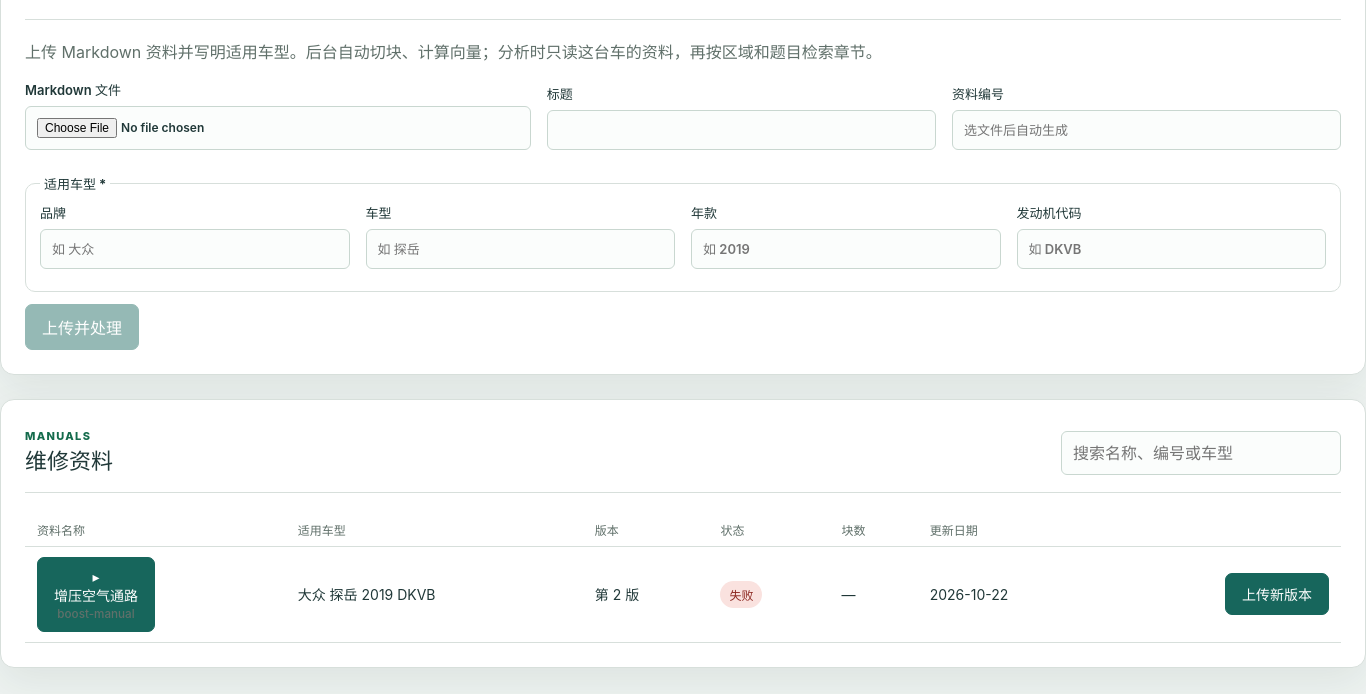
Test: ReferencesPage › lists one row per manual and opens its latest version, history and chunks in place
The width and height of the screenshot is (1366, 694).
Expected: the text "第 2 版" is shown, [583,546,708,642]
Expected: the text "大众 探岳 2019 DKVB" is shown, [286,546,583,642]
Click the button "▸ 增压空气通路 boost-manual" at (96, 594), box [37,557,155,632]
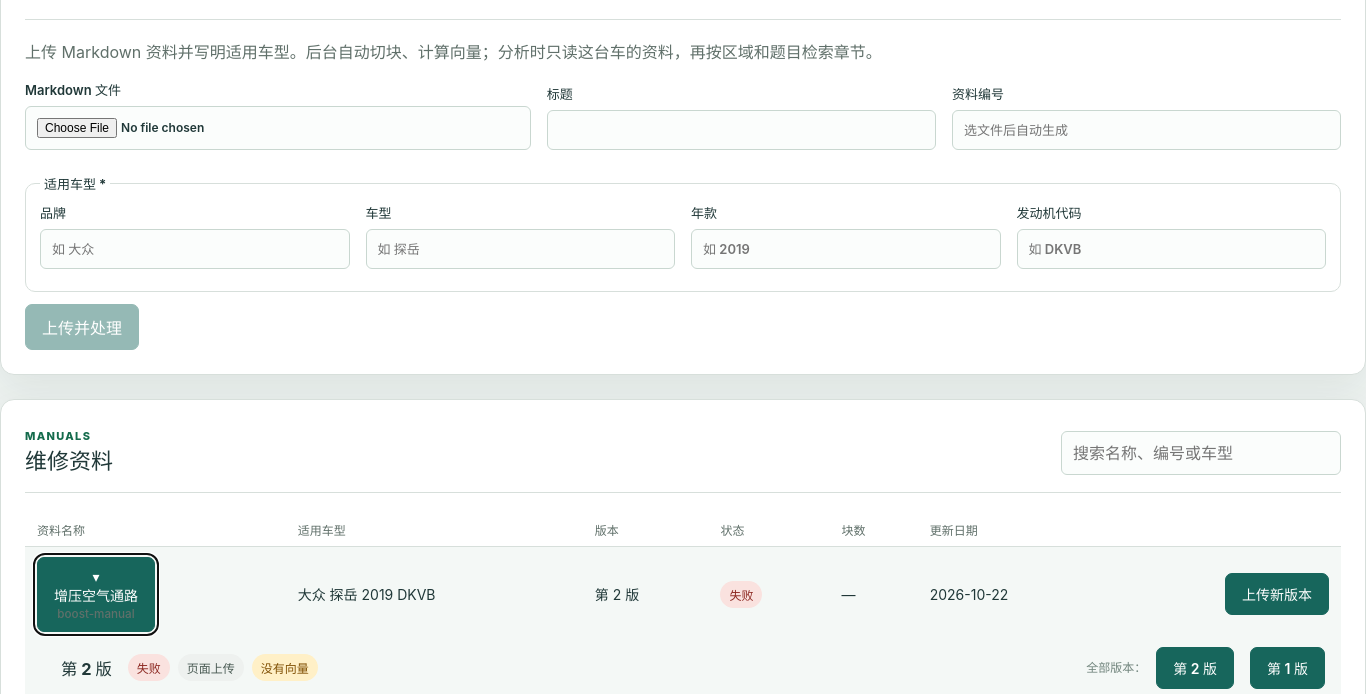
Click the button "第 1 版" at (1288, 668), box [1250,647,1325,689]
(page scrolled)
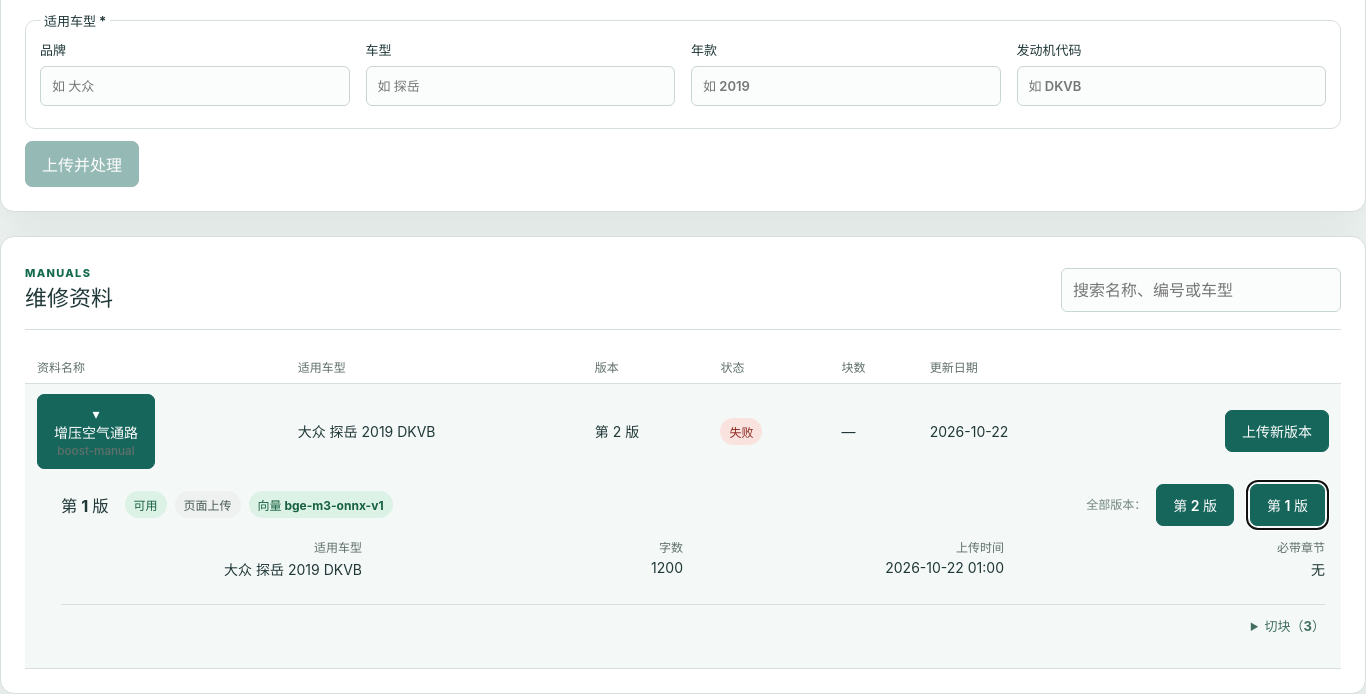
Click the heading "切块（3）" at (1295, 626), box [1265,618,1325,634]
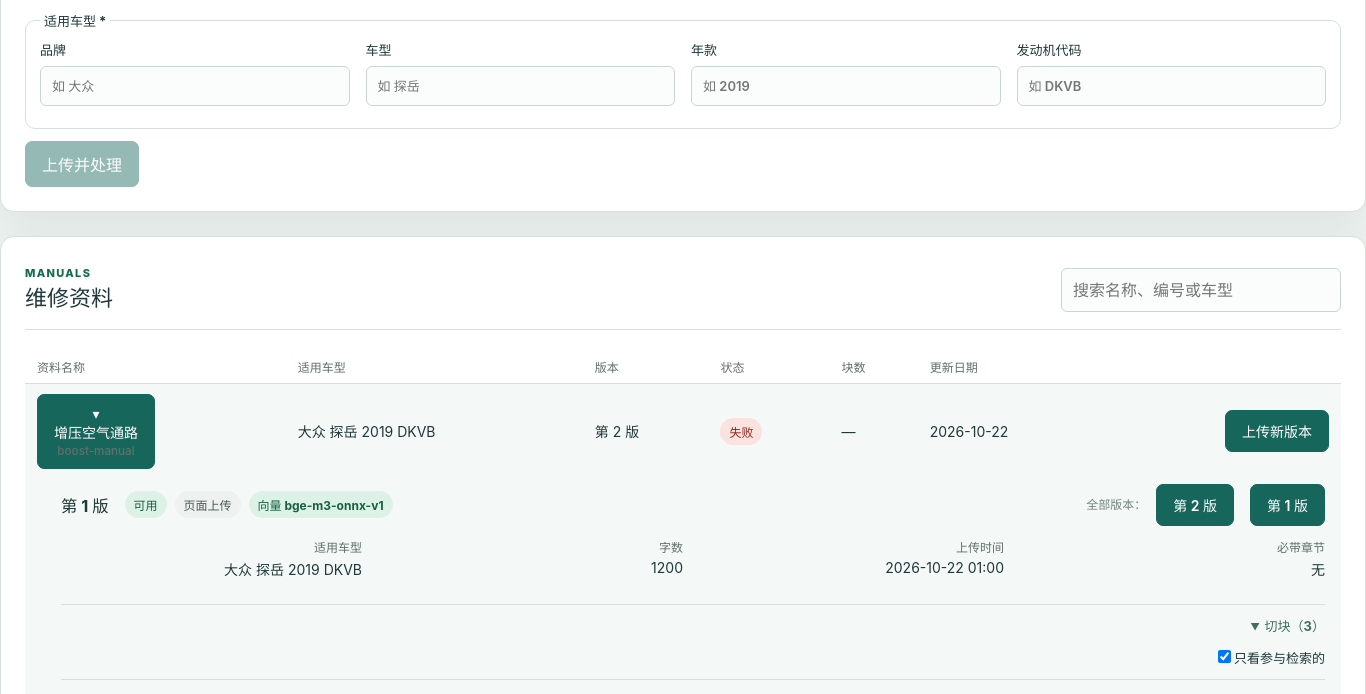
Expected: the text "导航章节，不参与检索" is not shown
Click the checkbox labelled "只看参与检索的" at (1224, 656), box [1218,650,1231,663]
(page scrolled)
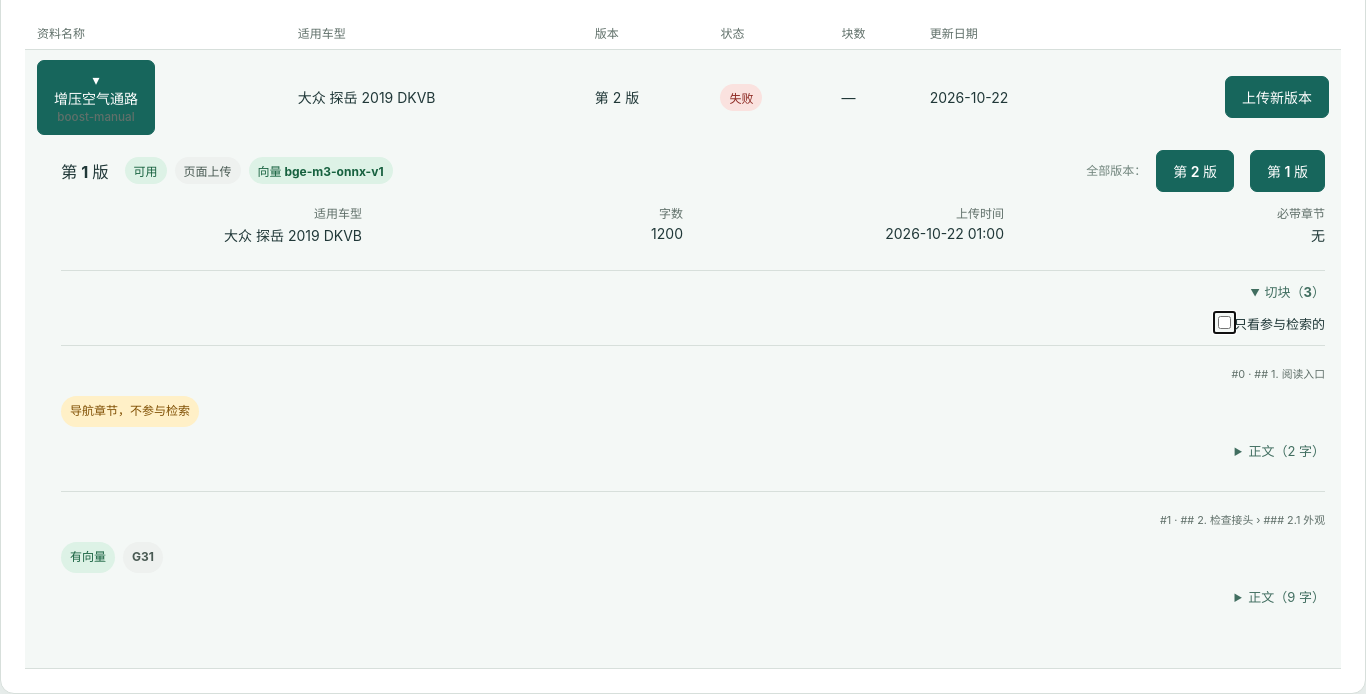
Now the text "导航章节，不参与检索" is shown, box [61,396,199,427]
